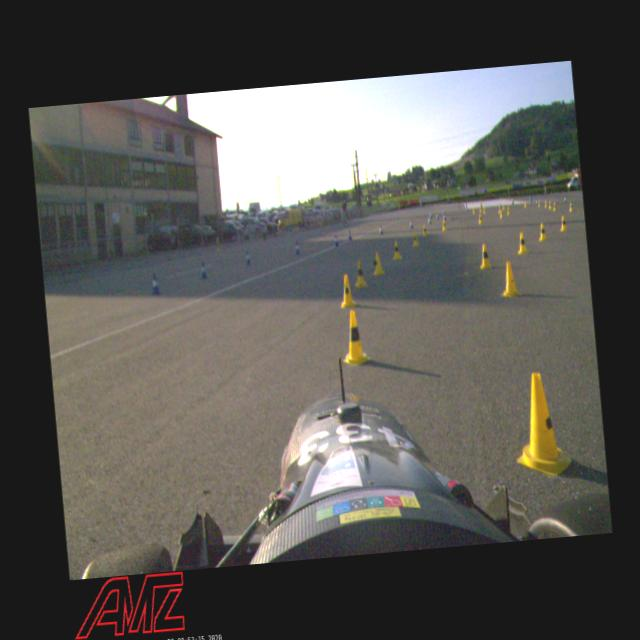blue_cone: (150, 272, 160, 296), (199, 262, 207, 280), (244, 251, 252, 265), (294, 242, 300, 254), (333, 234, 338, 247), (348, 230, 352, 240), (409, 218, 413, 228), (379, 226, 383, 234)
yellow_cone: (509, 371, 574, 478), (338, 308, 369, 366), (498, 260, 520, 298), (338, 274, 356, 308), (353, 260, 368, 288), (478, 244, 492, 268), (372, 252, 384, 275), (516, 232, 528, 254), (538, 222, 548, 242), (391, 241, 401, 260), (412, 231, 420, 247), (559, 216, 567, 232), (441, 220, 446, 231), (422, 225, 426, 236), (478, 214, 482, 224), (500, 210, 503, 218)
